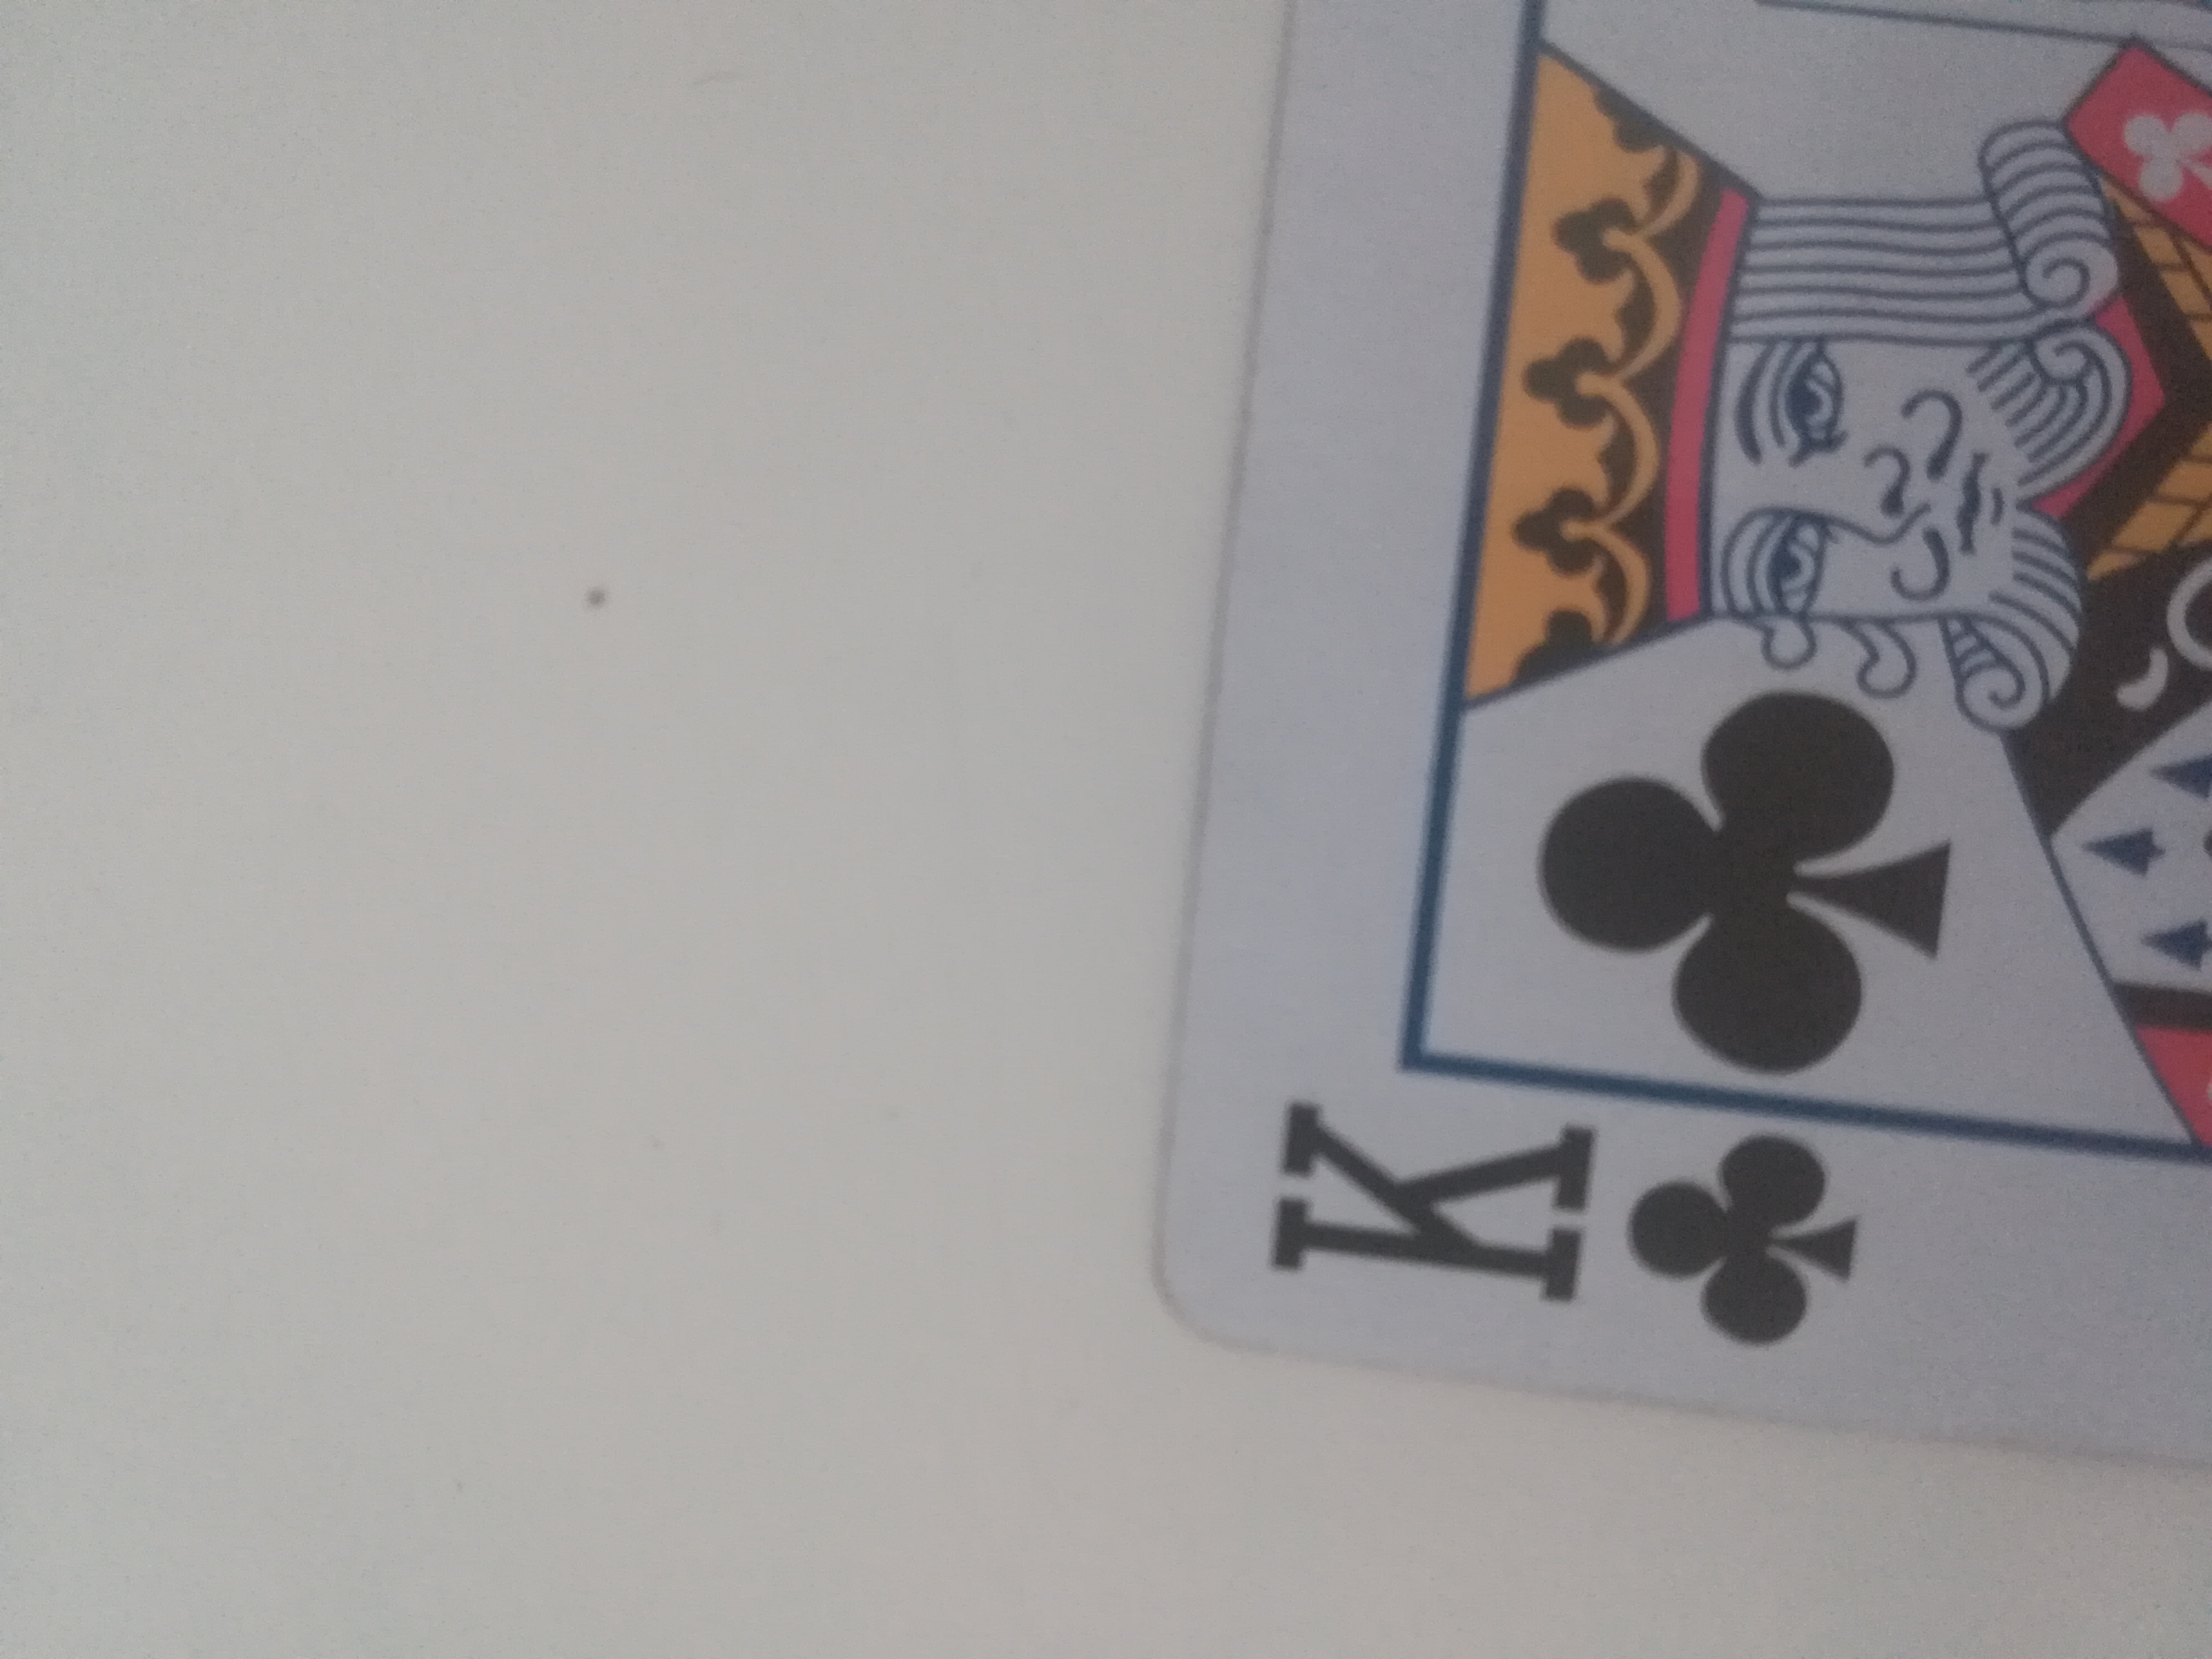KC: (1150, 3, 2212, 1466)
